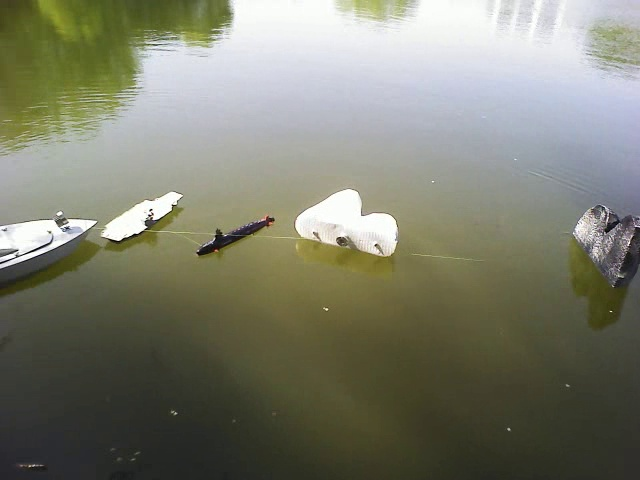aircraft_carrier: (103, 189, 183, 250)
boat: (2, 214, 100, 278)
iceberg: (294, 188, 400, 256)
rock: (572, 201, 638, 292)
submarine: (192, 211, 274, 259)
